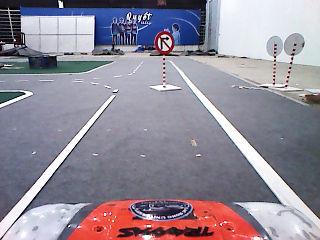ban: (153, 30, 175, 55)
